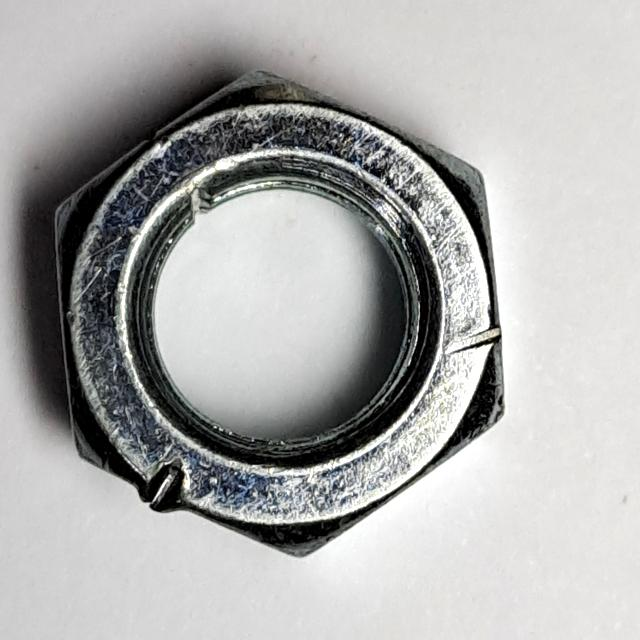Scratches: (49, 57, 517, 572)
